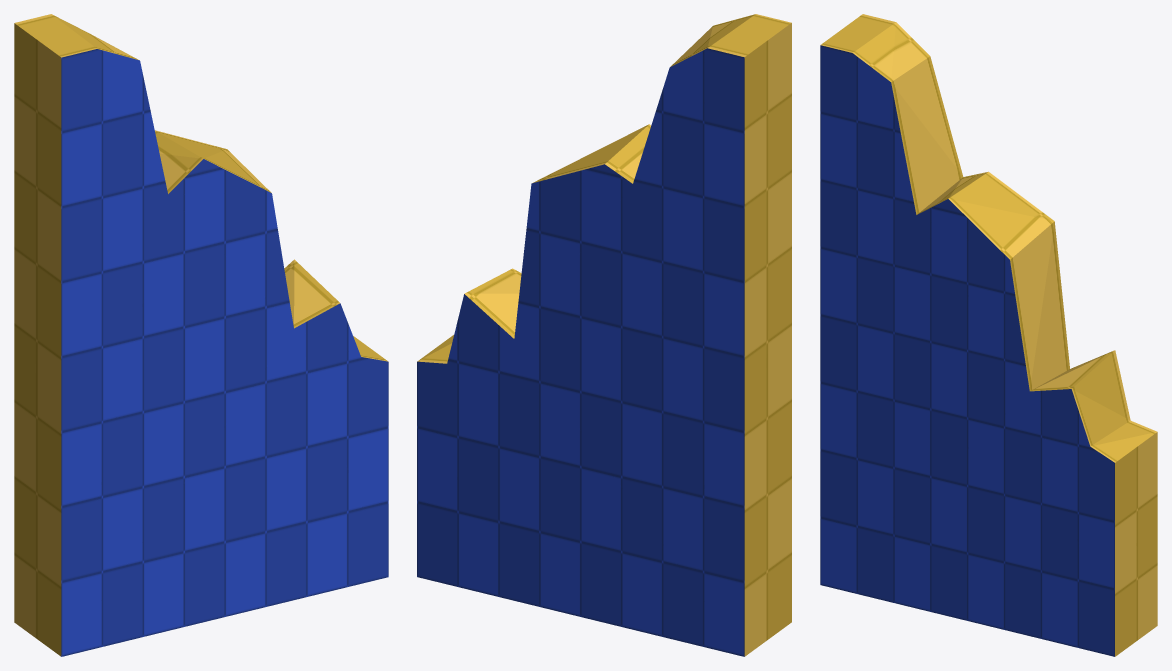
The model's file is WallDi.fbx.
The picture shows the model from 3 angles, left to right: view 1: azimuth 30°, elevation 25°; view 2: azimuth 150°, elevation 25°; view 3: azimuth 330°, elevation 25°; orthographic projection. The views are drawn at different scales.
Parts seen in each view (by area): view 1: WallDi; view 2: WallDi; view 3: WallDi.
Part boxes in pixels (<box>): WallDi: <box>14,14,388,656</box>; WallDi: <box>417,14,791,656</box>; WallDi: <box>820,14,1157,656</box>.
Size of the model in its own units: 200 by 50 by 350.
